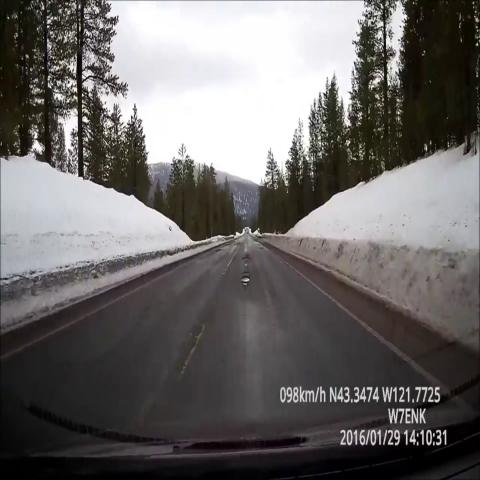pothole: (236, 269, 259, 293), (237, 246, 252, 269)
